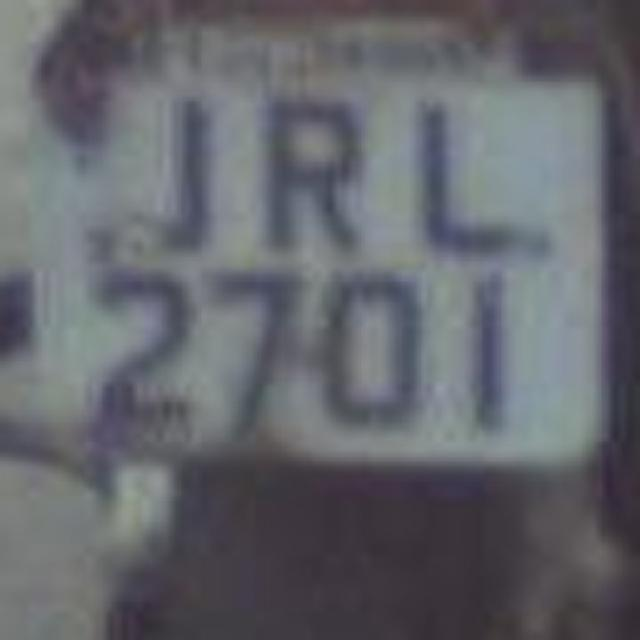0: (309, 248, 436, 444)
1: (444, 260, 531, 425)
2: (65, 252, 220, 456)
7: (191, 252, 324, 448)
J: (95, 76, 220, 269), (396, 84, 536, 256)
R: (240, 84, 385, 264)
